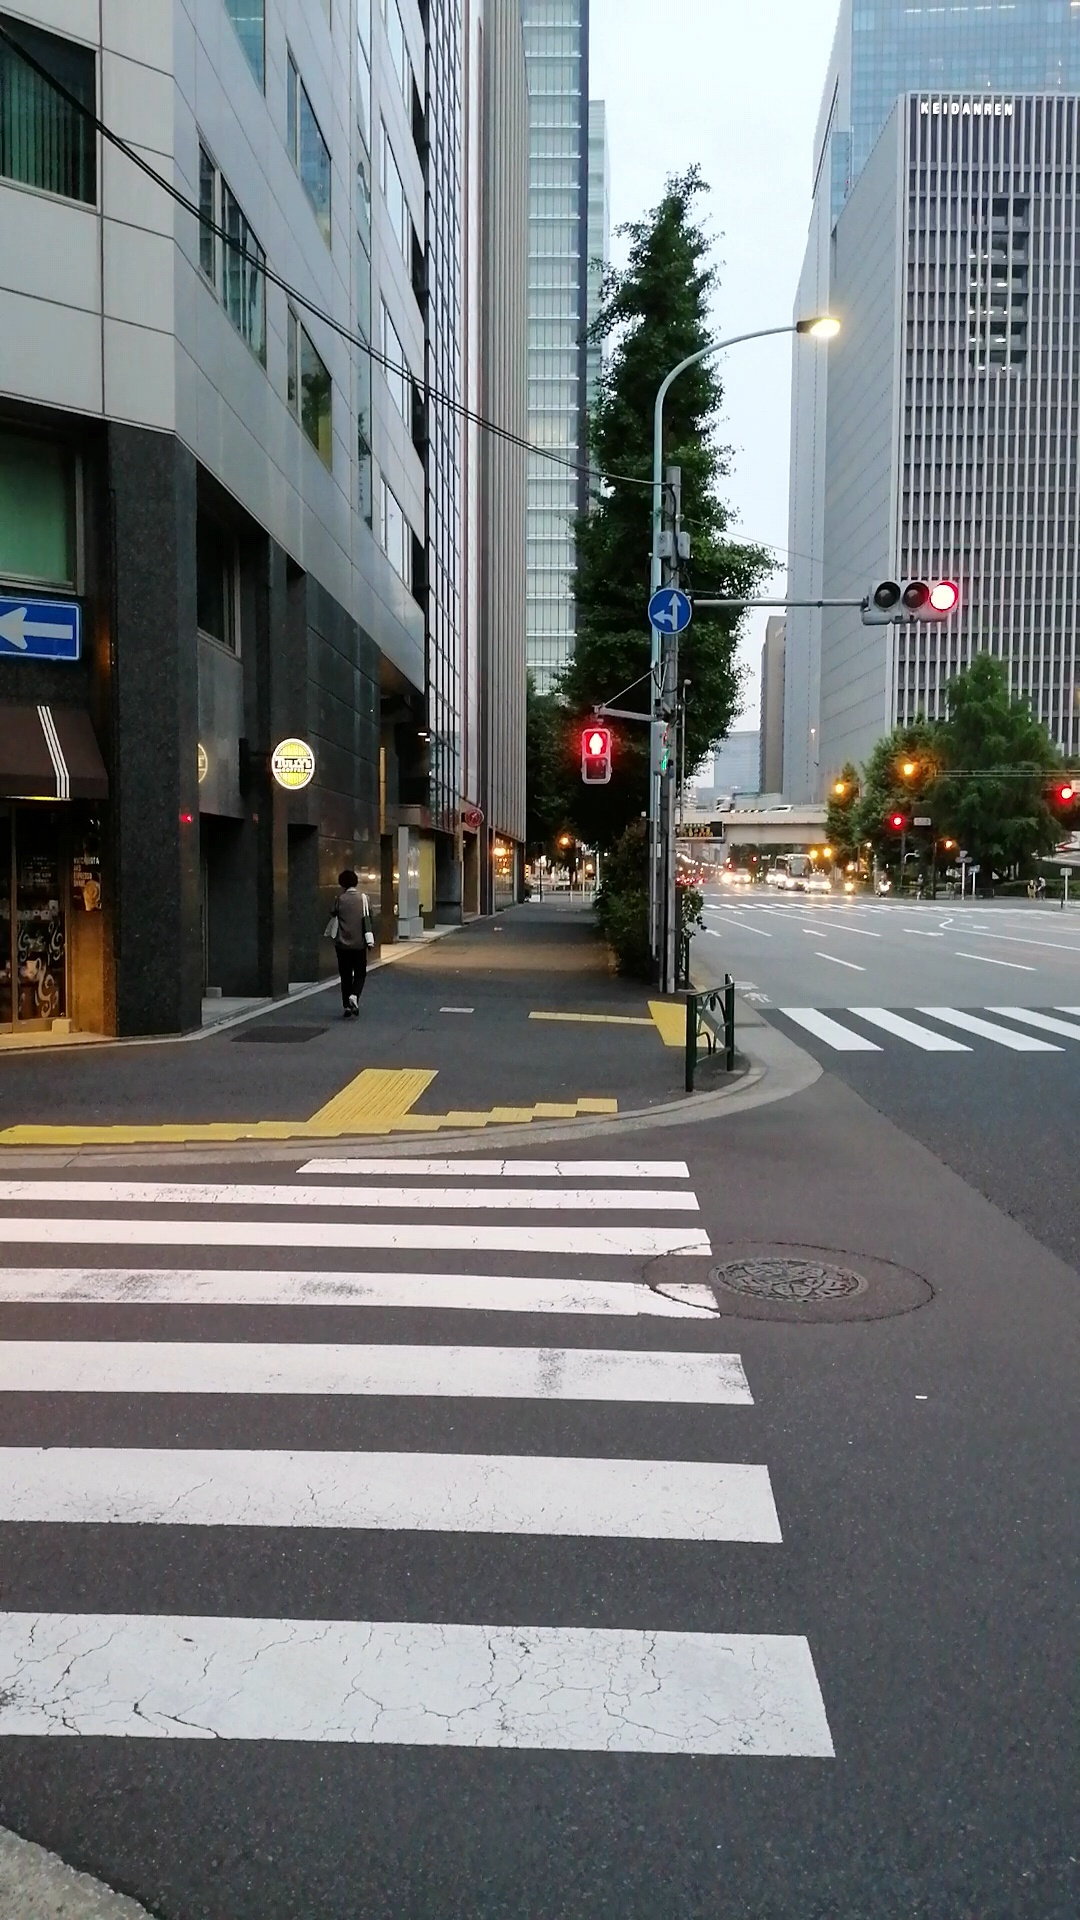red: (580, 727, 613, 783)
